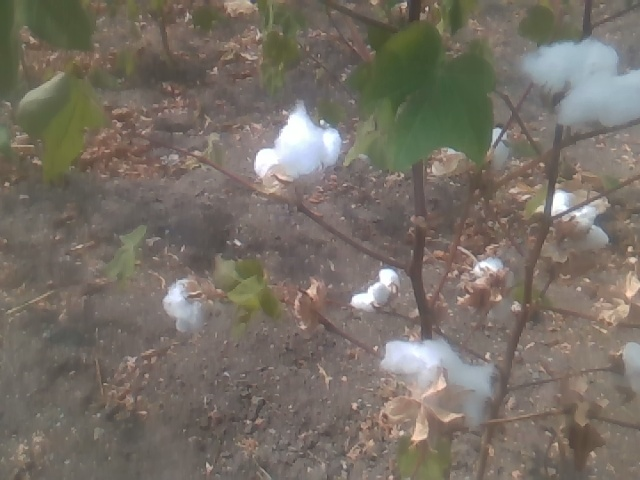cotton: (521, 42, 640, 122), (382, 339, 493, 422), (255, 104, 338, 176), (162, 278, 204, 332), (351, 268, 396, 311), (624, 341, 640, 379)
